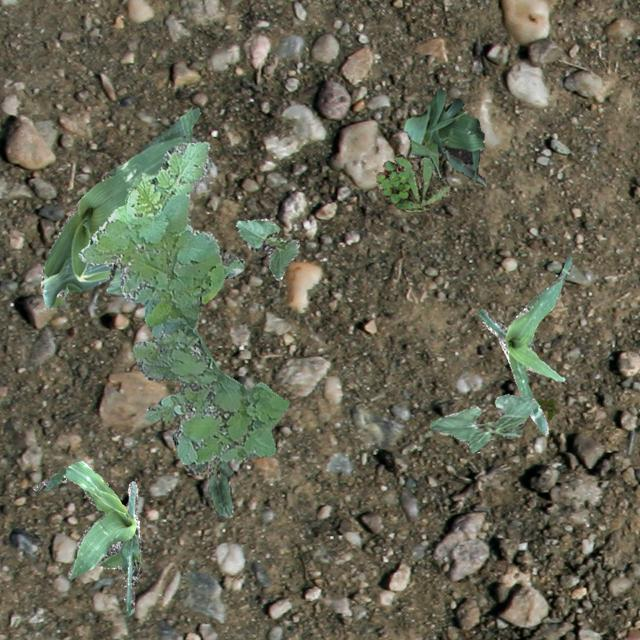crop: (39, 105, 210, 308), (476, 255, 572, 434), (31, 460, 142, 614), (402, 88, 484, 186), (428, 392, 534, 452), (172, 432, 234, 516), (106, 260, 242, 296), (234, 217, 298, 280)
weed: (78, 140, 288, 468), (376, 152, 450, 210), (534, 396, 558, 418)
